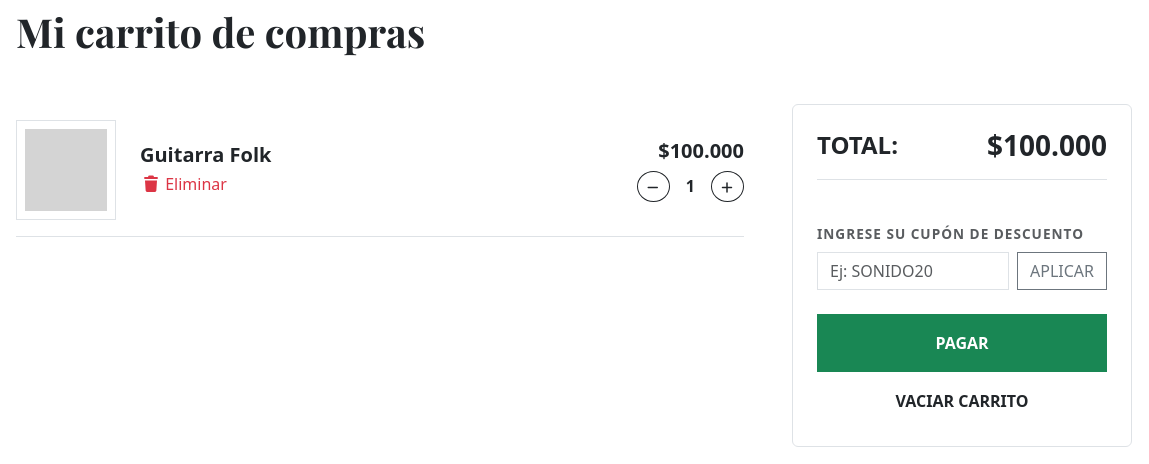
Test: Carrito › calcula el total y cambia cantidades
Expected: the heading "$100.000" in the row of "Guitarra Folk" is shown, [658,136,744,164]
Step 1. Click the button named "Aumentar cantidad" → (728,186), box [711,170,744,202]
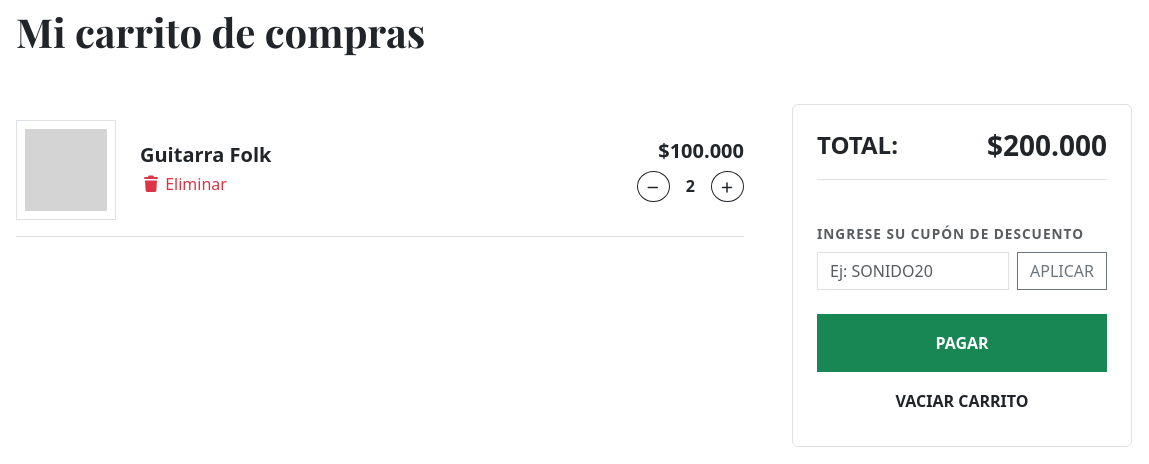
Result: the heading "$200.000" is shown at [987,129,1107,163]
Step 2. Click the button named "Disminuir cantidad" → (653,186), box [637,170,670,202]
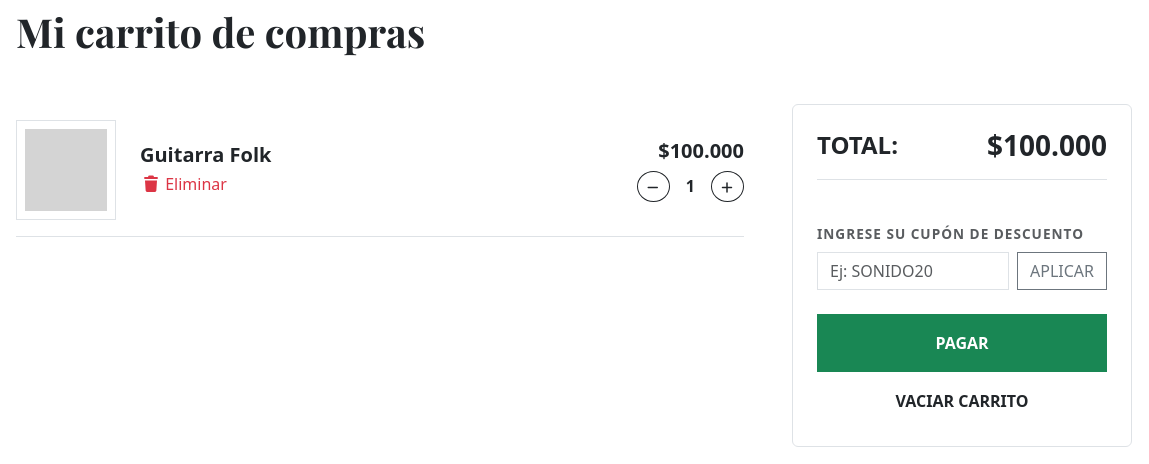
Step 3. Click the button named "Disminuir cantidad" → (653,186), box [637,170,670,202]
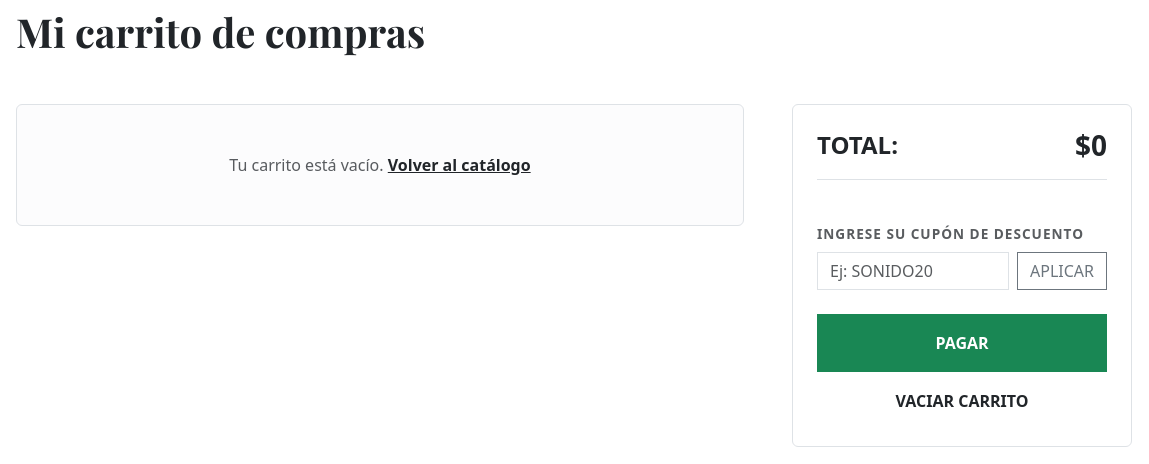
Result: the text "Tu carrito está vacío. Volver al catálogo" is shown at [16,104,744,226]
